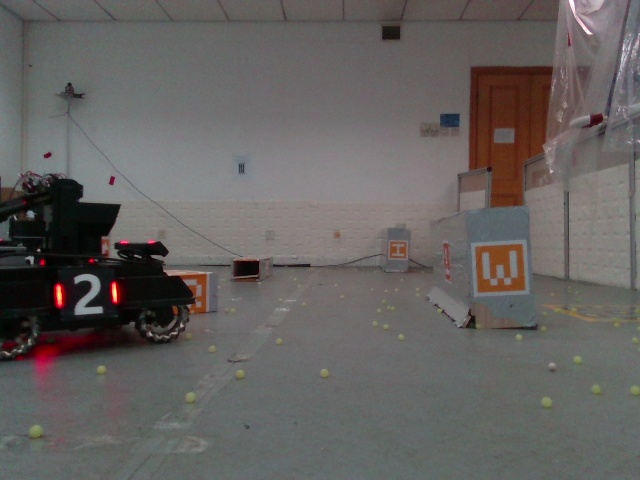Robot_Red: (1, 176, 196, 363)
armor_Red: (54, 274, 118, 314)
